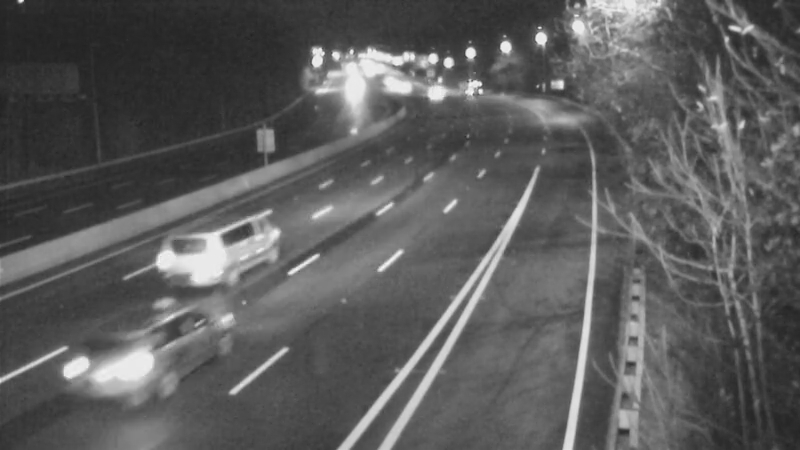vehicle: (66, 310, 176, 420), (163, 212, 243, 292), (443, 59, 493, 109), (408, 66, 458, 116), (327, 70, 377, 120)
